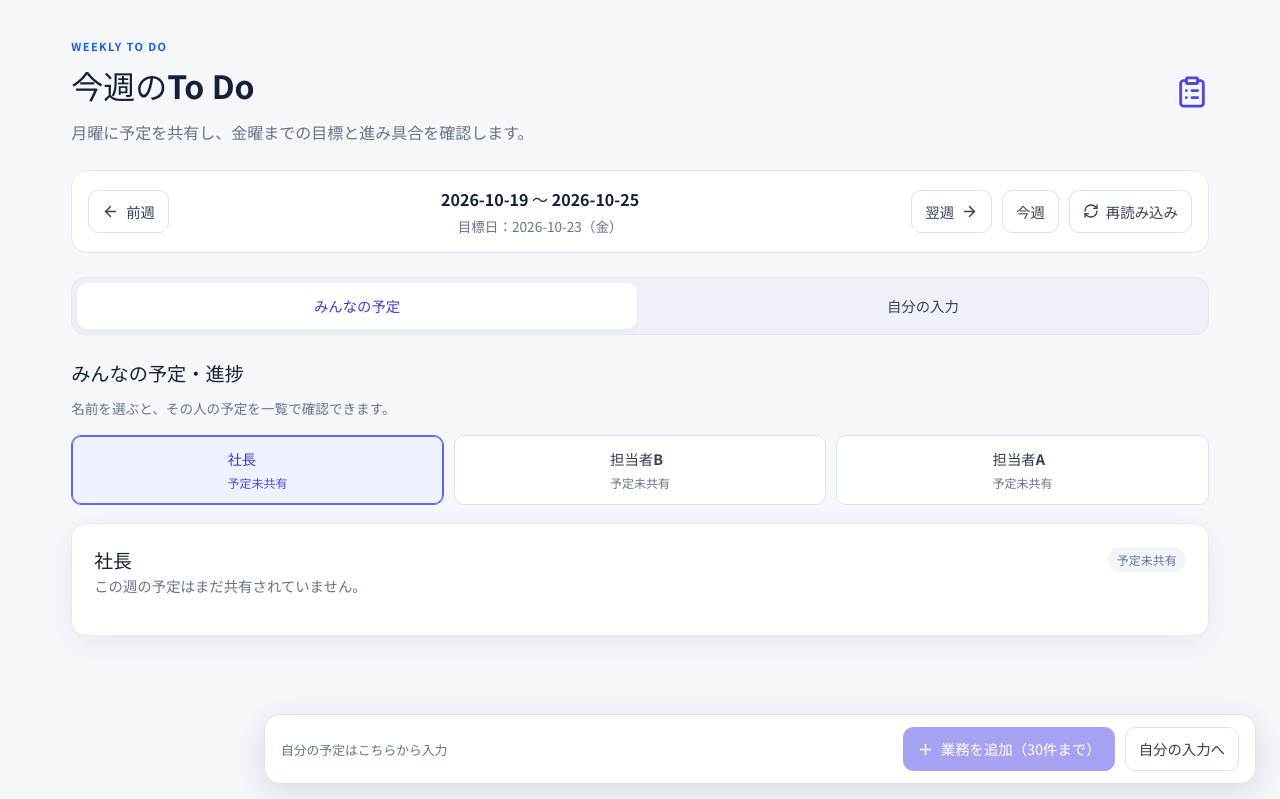
weekly To Do workspace › keeps the limit of 30 tasks and blocks additions during a conflicting save
Expected: the heading "みんなの予定・進捗" is shown, [71,359,244,387]
Expected: the button "業務を追加（30件まで）" is disabled, [903,727,1115,771]
Click the button "自分の入力へ".
click(1182, 749)  # box [1125,727,1239,771]
(page scrolled)
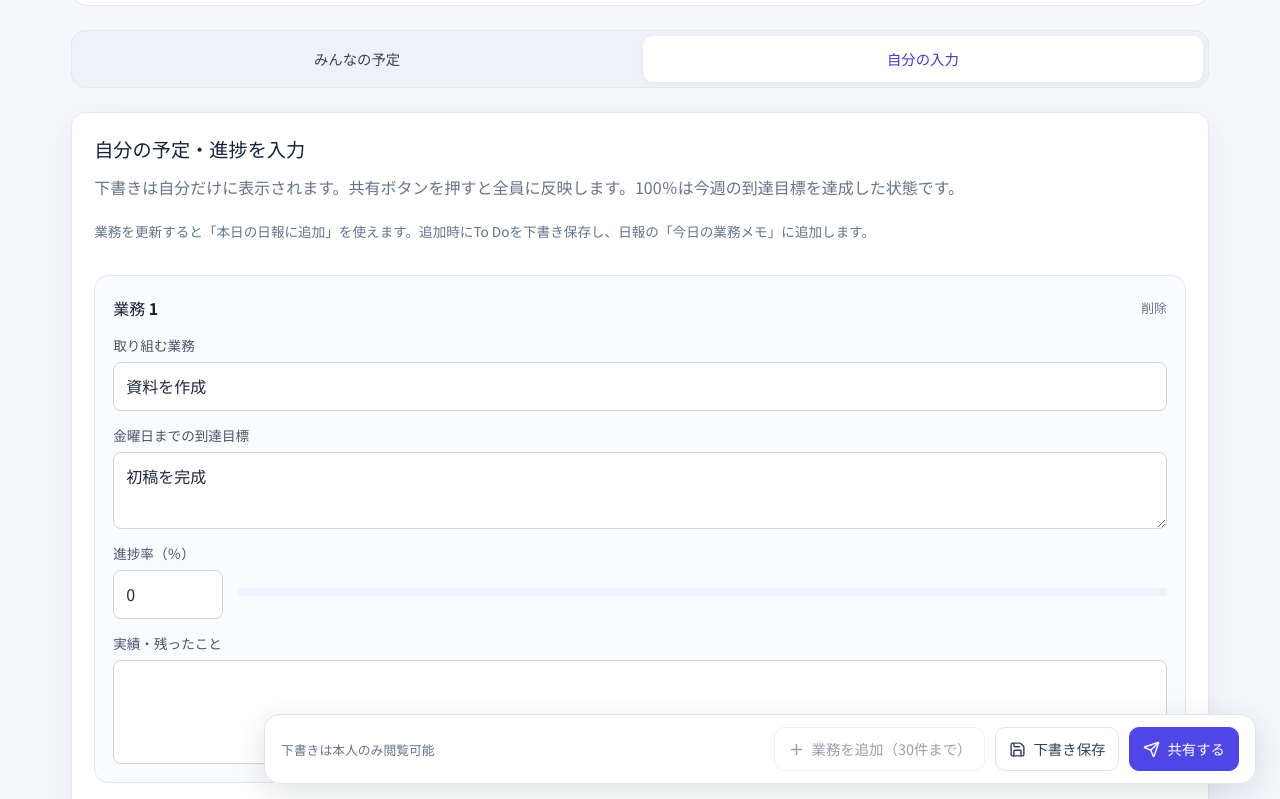
Expected: the button "業務を追加（30件まで）" is disabled, [774,727,985,771]
Click the button "削除".
click(1154, 308)  # box [1141,294,1167,321]
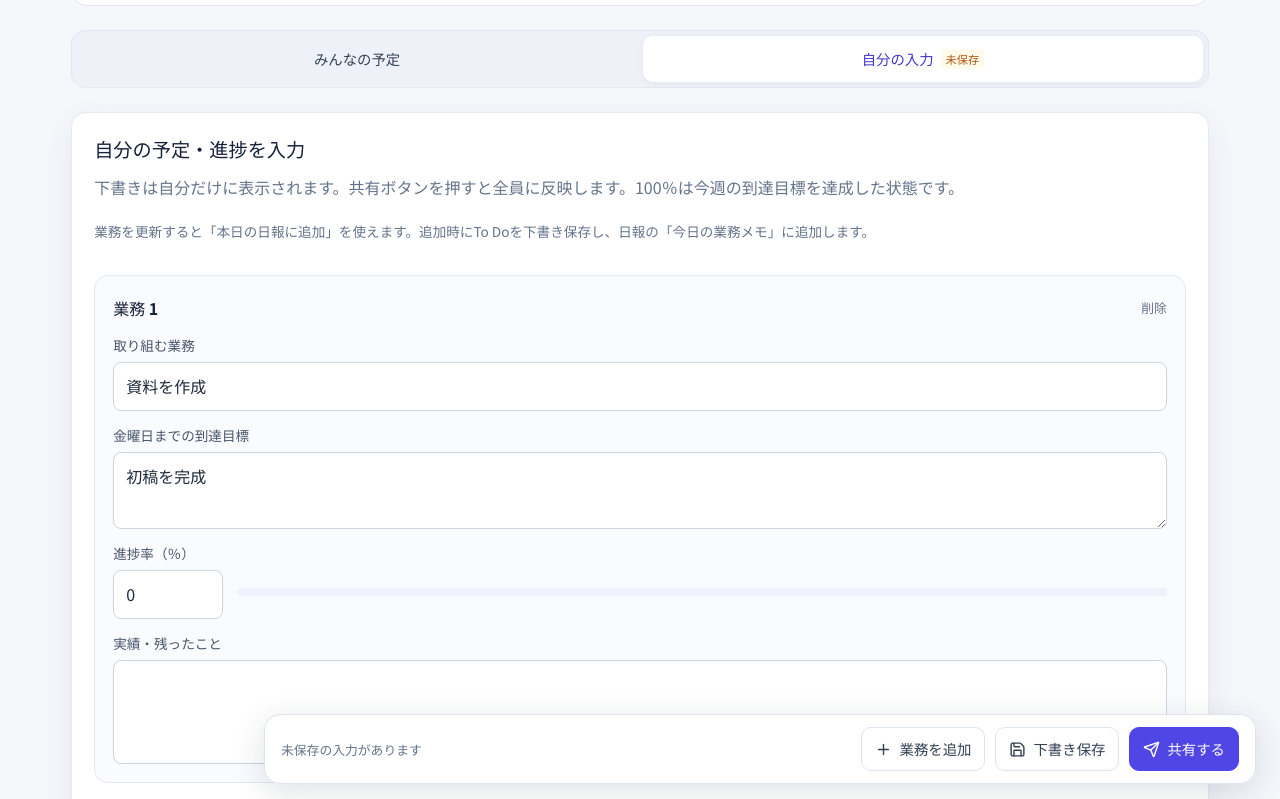
Expected: the button "業務を追加" is enabled, [862,727,986,771]
Click the button "下書き保存".
click(1058, 749)  # box [996,727,1120,771]
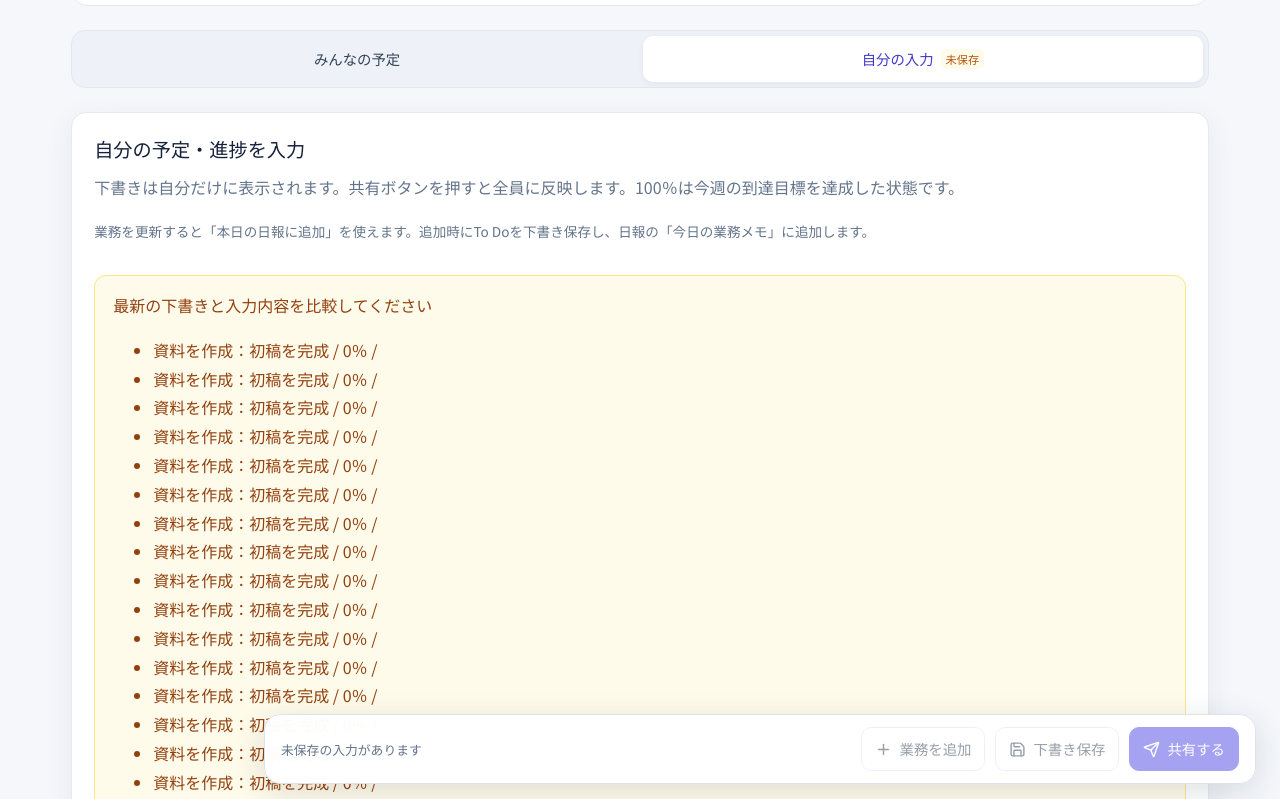
Expected: the text "最新の下書きと入力内容を比較してください" is shown, [113,293,432,317]
Expected: the button "業務を追加" is disabled, [862,727,986,771]
